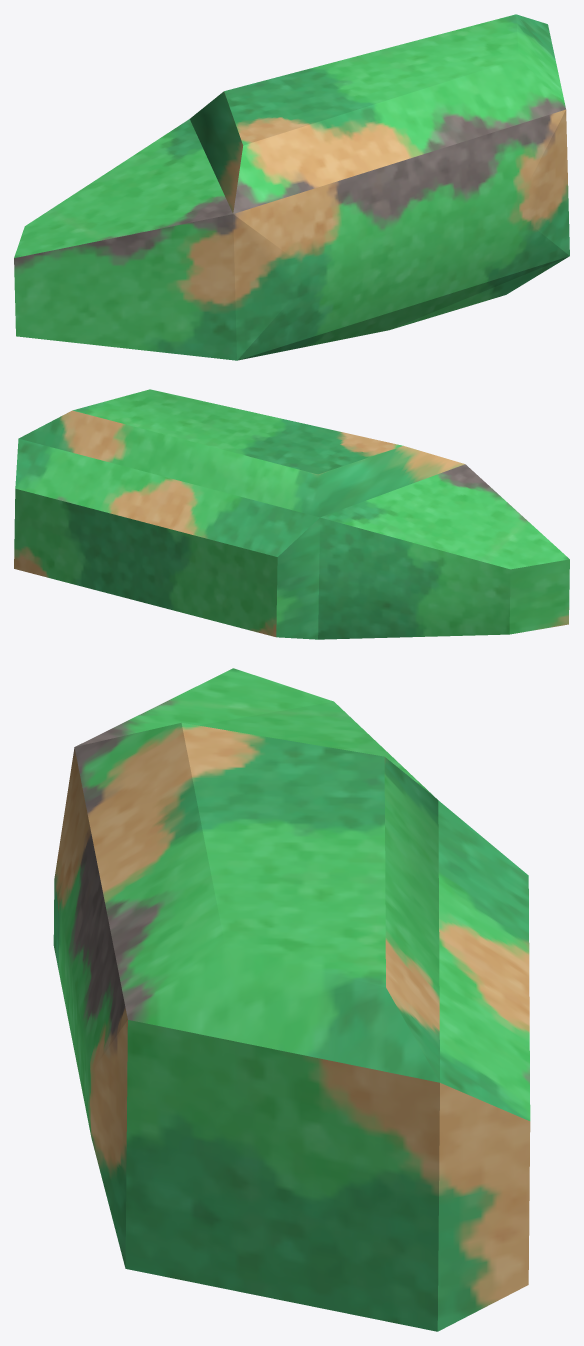
Rendered from leftEngine.obj.
3 views of the same model, one above another, from view 1: azimuth 30°, elevation 25°; view 2: azimuth 150°, elevation 25°; view 3: azimuth 270°, elevation 25° (orthographic). The views are drawn at different scales.
Visible parts, largest first — view 1: Engines; view 2: Engines; view 3: Engines.
Part boxes in pixels (x1,y1,x2,y2): Engines: [14, 14, 569, 360]; Engines: [14, 389, 569, 639]; Engines: [53, 668, 530, 1331].
Bounding box in the file's own units: 2.56 × 0.8596 × 1.05.
1 material, 1 textured.
